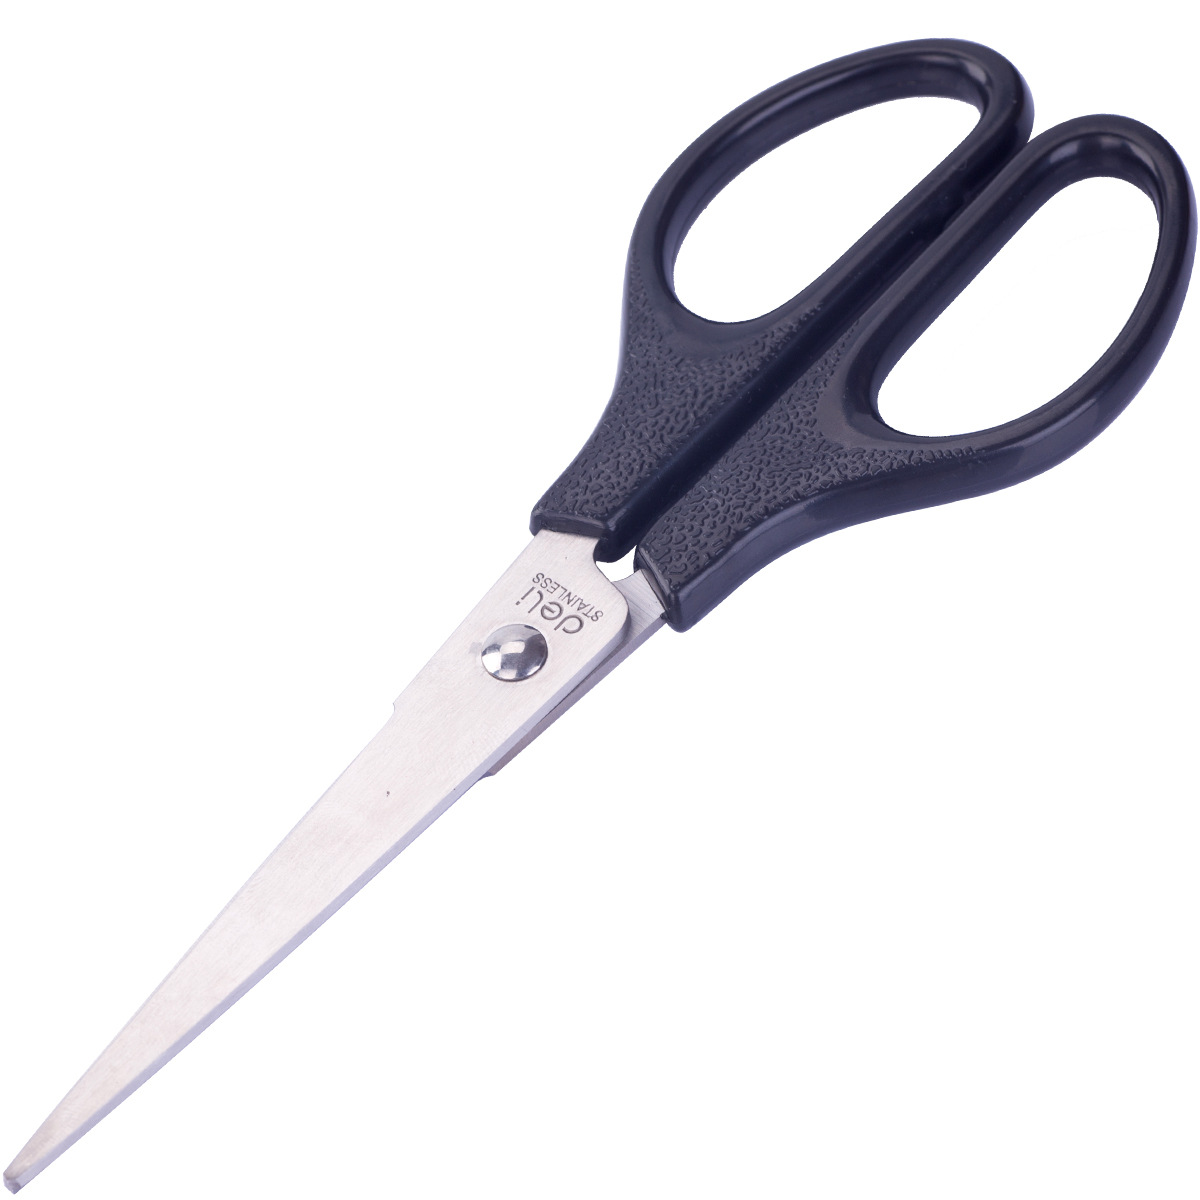scissors: (2, 35, 1200, 1197)
